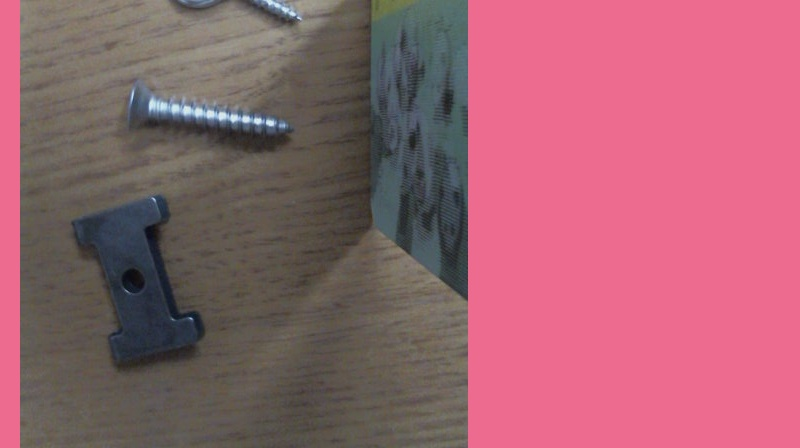O001: (160, 0, 307, 27)
O002: (70, 191, 204, 370)
S001: (126, 76, 296, 140)
